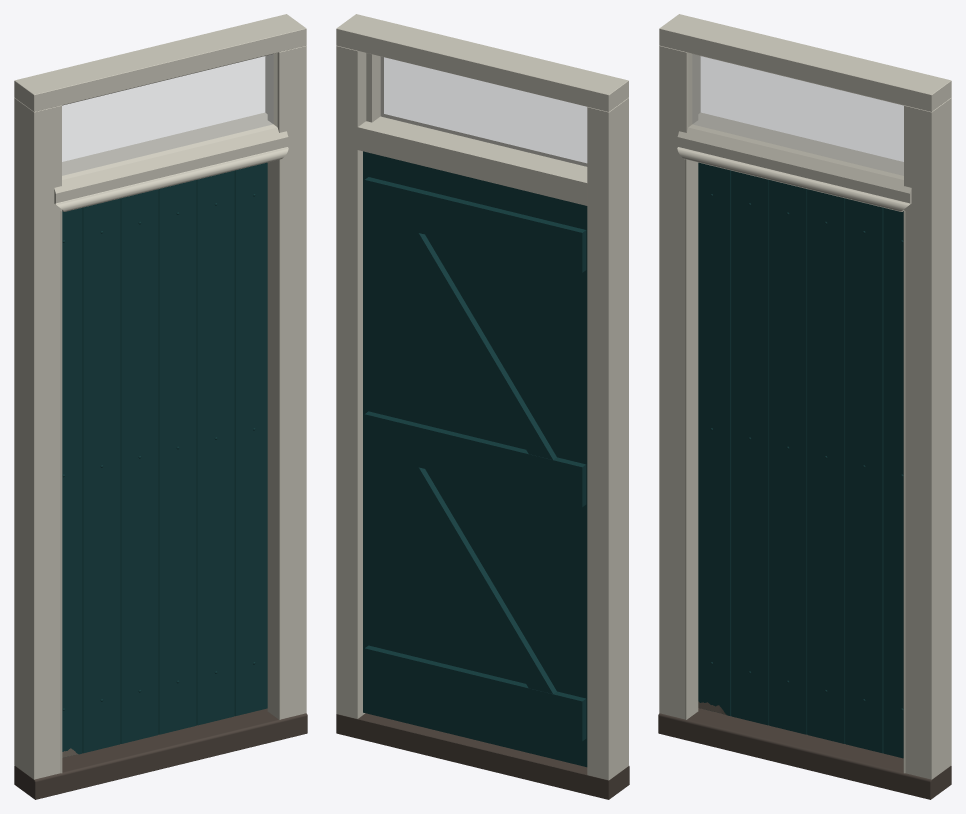
The model's file is door_F7.glb.
3 views of the same model, side by side, from view 1: azimuth 30°, elevation 25°; view 2: azimuth 150°, elevation 25°; view 3: azimuth 330°, elevation 25° (orthographic).
Visible parts, largest first — view 1: frame_jamb_L, frame_jamb_R, leaf_board_2, leaf_board_5, leaf_board_3, leaf_board_4, leaf_board_6, glass_fanlight, leaf_board_1, frame_transom, frame_head, stone_threshold (+3 smaller); view 2: frame_jamb_L, frame_jamb_R, leaf_board_6, leaf_board_1, leaf_board_2, leaf_board_5, leaf_board_3, leaf_board_4, glass_fanlight, frame_head, leaf_ledge_3, leaf_ledge_2 (+6 smaller); view 3: frame_jamb_R, frame_jamb_L, leaf_board_5, leaf_board_2, leaf_board_4, leaf_board_3, leaf_board_1, glass_fanlight, leaf_board_6, frame_transom, frame_head, stone_threshold (+3 smaller).
Boxes of the visible parts, x1,y1,x2,y2 form: frame_jamb_L: [14, 97, 61, 779]; frame_jamb_R: [265, 45, 306, 719]; leaf_board_2: [82, 198, 120, 753]; leaf_board_5: [196, 170, 234, 725]; leaf_board_3: [120, 189, 158, 743]; leaf_board_4: [158, 180, 196, 734]; leaf_board_6: [234, 162, 267, 716]; glass_fanlight: [62, 54, 273, 175]; leaf_board_1: [62, 208, 82, 754]; frame_transom: [54, 112, 288, 211]; frame_head: [14, 14, 306, 111]; stone_threshold: [14, 708, 307, 799]; frame_jamb_L: [587, 98, 628, 780]; frame_jamb_R: [336, 45, 380, 718]; leaf_board_6: [363, 151, 401, 721]; leaf_board_1: [553, 198, 587, 767]; leaf_board_2: [515, 188, 553, 758]; leaf_board_5: [401, 160, 439, 730]; leaf_board_3: [477, 179, 515, 749]; leaf_board_4: [439, 170, 477, 740]; glass_fanlight: [381, 57, 586, 166]; frame_head: [336, 14, 628, 111]; leaf_ledge_3: [364, 177, 586, 272]; leaf_ledge_2: [364, 411, 586, 507]; frame_jamb_R: [904, 97, 951, 779]; frame_jamb_L: [659, 45, 700, 719]; leaf_board_5: [845, 198, 883, 753]; leaf_board_2: [731, 170, 769, 725]; leaf_board_4: [807, 189, 845, 743]; leaf_board_3: [769, 180, 807, 734]; leaf_board_1: [698, 162, 731, 716]; glass_fanlight: [692, 54, 903, 175]; leaf_board_6: [883, 208, 903, 758]; frame_transom: [677, 112, 911, 211]; frame_head: [659, 14, 951, 111]; stone_threshold: [658, 708, 951, 799].
Bounding box in the file's own units: 1 × 2.47 × 0.149.
